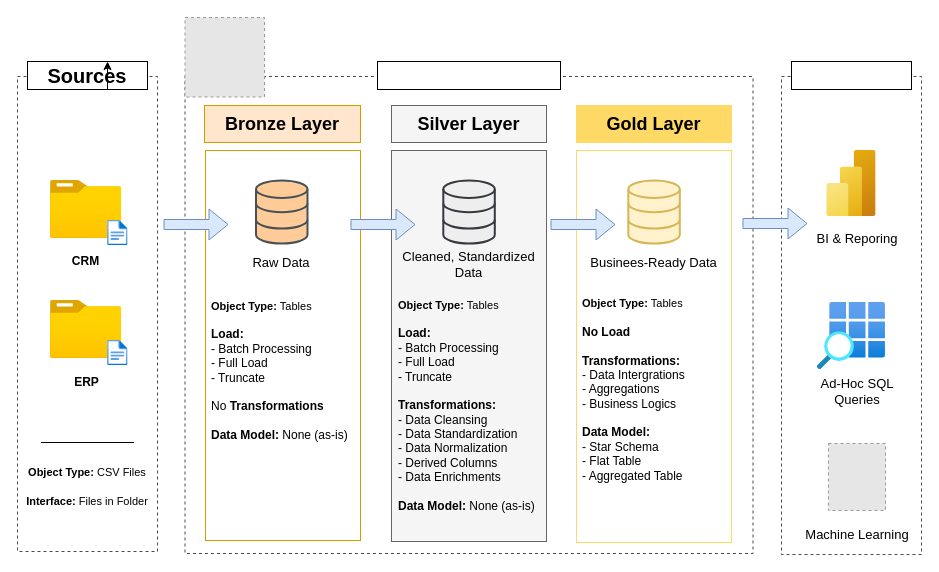
The diagram is 939 pixels wide and 572 high, and some of its shapes have lost their labels. Grey dashed boxes stand in for pictures. The centre of each missing label's shape, as x and y in pixels:
"Consume" belongs at point 851,75.
"Data Warehouse" belongs at point 468,75.
